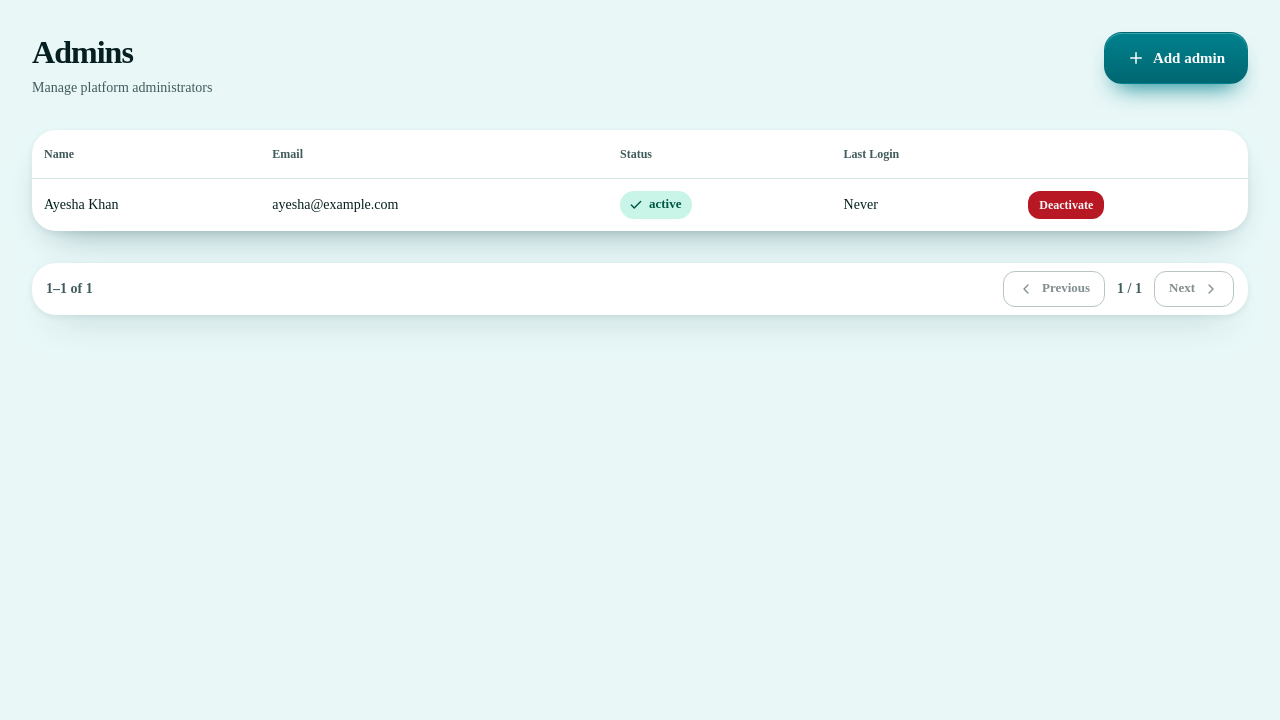
Test: AdminDirectory › warns that the admin loses sign-in before deactivating
Click the button "Deactivate" at (1066, 204), box [1028, 190, 1104, 218]
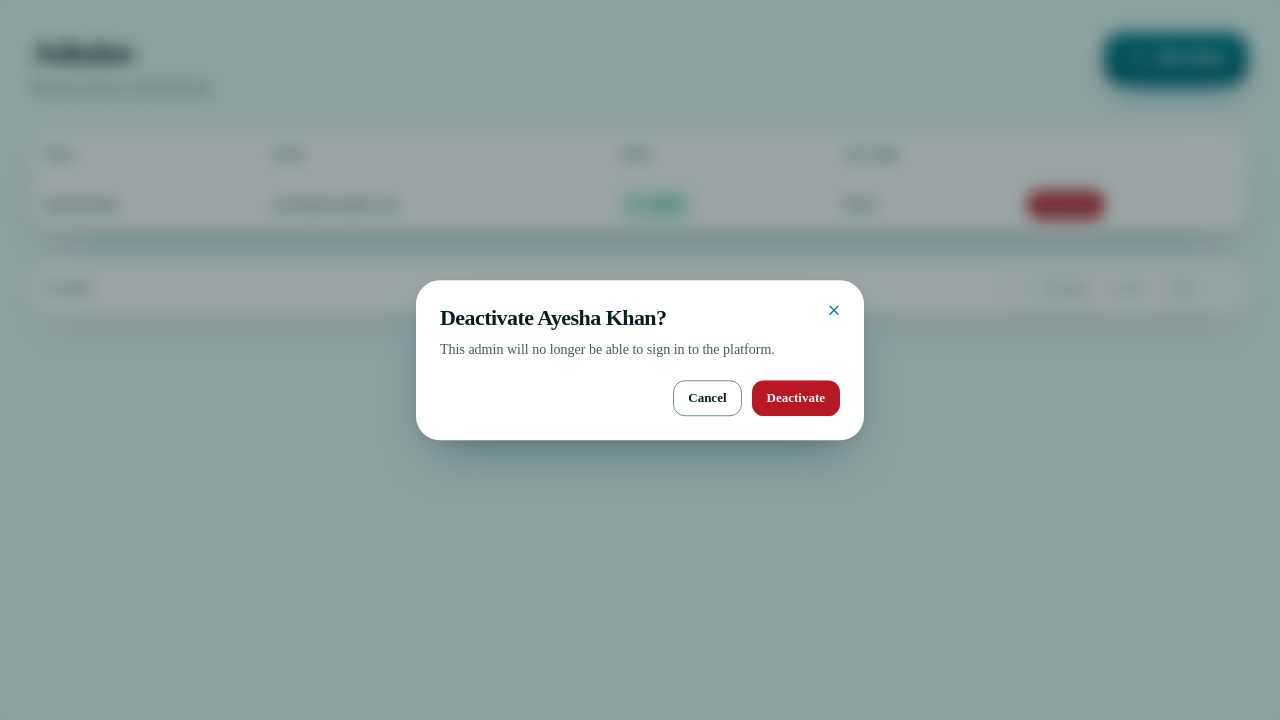
Check: the text "no longer be able to sign in" is shown, box [440, 342, 775, 357]
